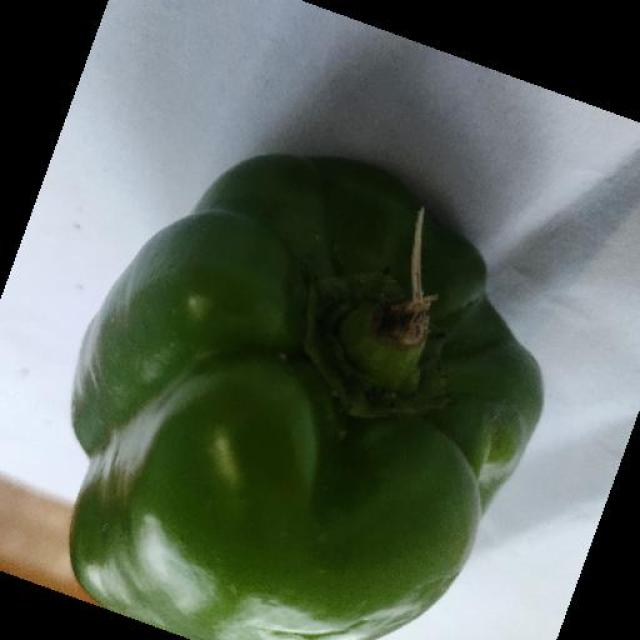Fresh_Capsicum: (117, 161, 529, 584)
